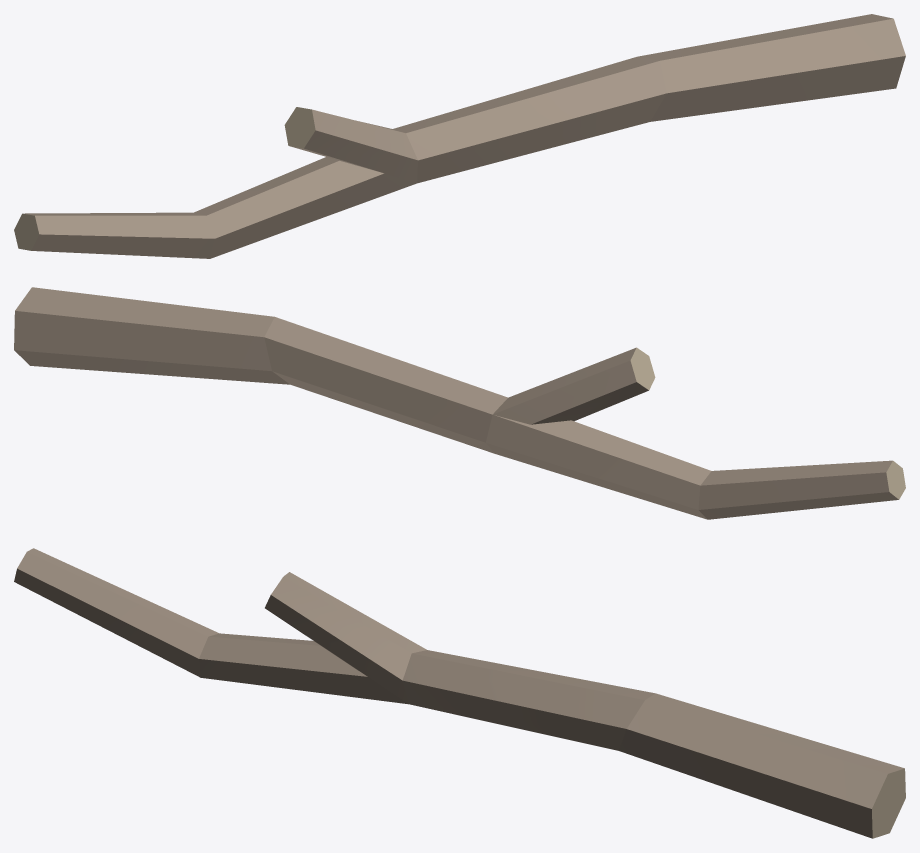
Rendered from Prop_Branch_3.glb.
3 renders of one model, top to bottom at view 1: azimuth 30°, elevation 25°; view 2: azimuth 150°, elevation 25°; view 3: azimuth 330°, elevation 25°, orthographic. The views are drawn at different scales.
Visible parts, largest first — view 1: Prop_Branch_3_Merged; view 2: Prop_Branch_3_Merged; view 3: Prop_Branch_3_Merged.
Part boxes in pixels (bbox=[...]): Prop_Branch_3_Merged: bbox=[14, 14, 905, 258]; Prop_Branch_3_Merged: bbox=[14, 287, 905, 519]; Prop_Branch_3_Merged: bbox=[14, 548, 905, 838].
Size of the model in its own units: 1.92 by 0.2937 by 0.2.
